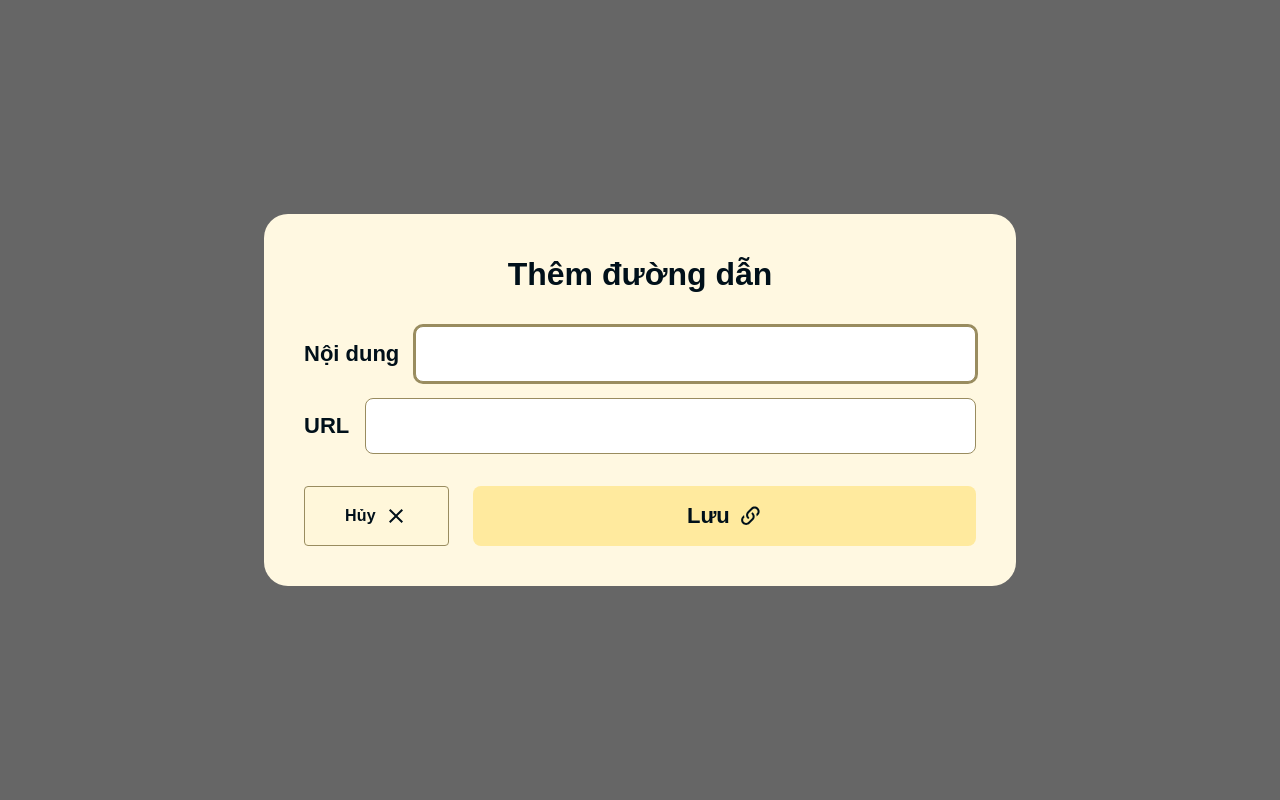
Scenario: AddLinkModal › save with errors shows both and keeps the modal open (no save, no close)
Click the button "Lưu" at (724, 516), box [473,486,976,546]
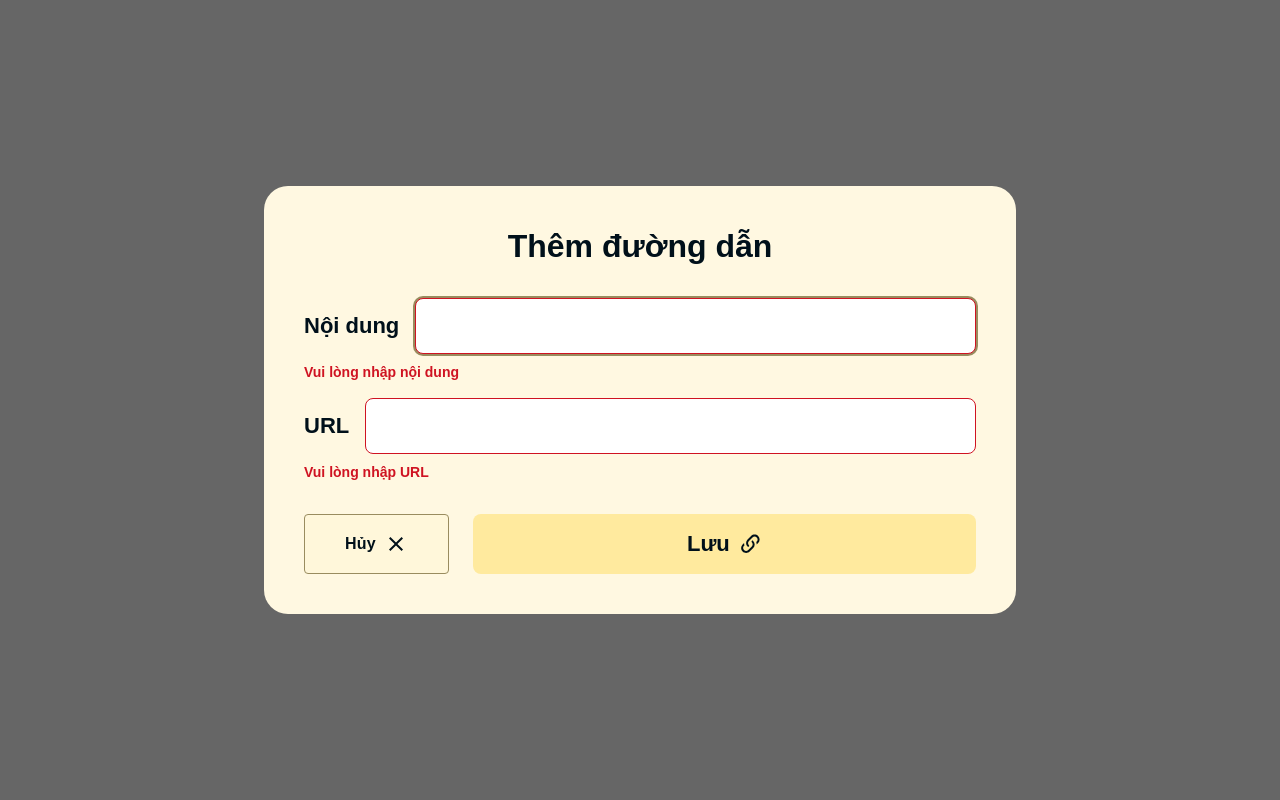
Check: the number of messages is 2, box [304,364,459,380]; [304,464,429,480]
